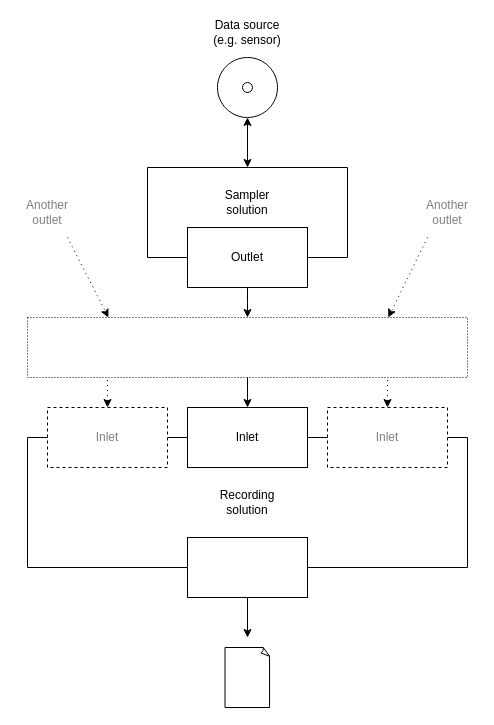
This 494x725 diagram has some shape labels left out. The shapes that lost their labels are listed below. From the top down, each one's centre as x and y in pixels, then its label:
(x=247, y=347): LSL Network
(x=247, y=567): Output (e.g. write to a file)
